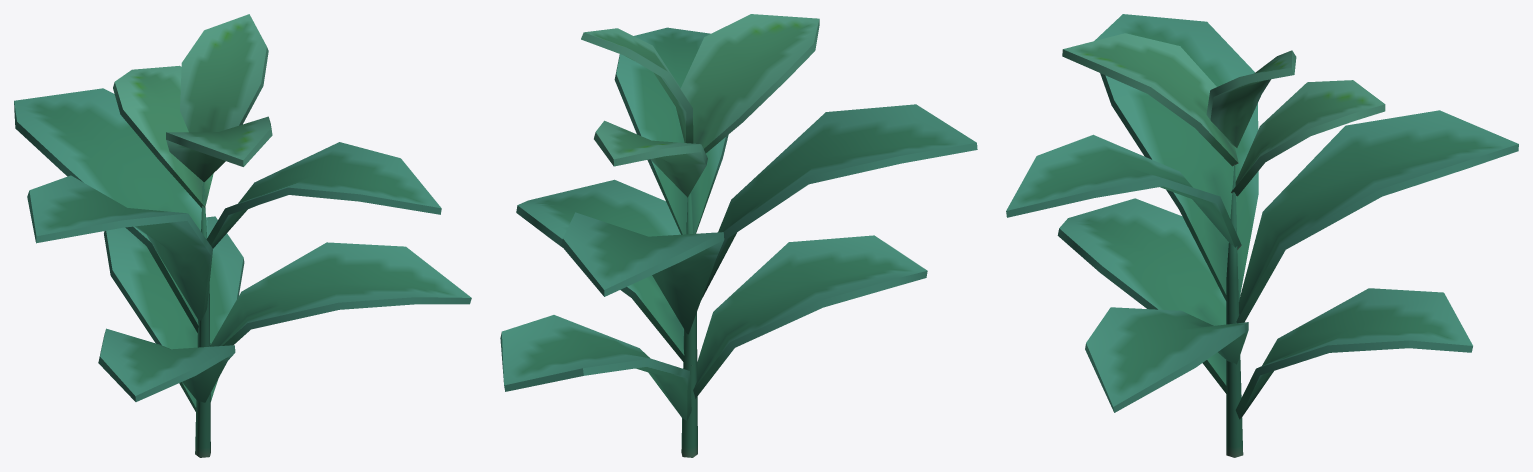
Rendered from Pixel_Misc_0024_2.fbx.
3 renders of one model, left to right at view 1: azimuth 30°, elevation 25°; view 2: azimuth 150°, elevation 25°; view 3: azimuth 270°, elevation 25°, orthographic. The views are drawn at different scales.
Parts seen in each view (by area): view 1: Pixel_Misc_0024_2; view 2: Pixel_Misc_0024_2; view 3: Pixel_Misc_0024_2.
Boxes of the visible parts, x1,y1,x2,y2 form: Pixel_Misc_0024_2: (14,14,471,457); Pixel_Misc_0024_2: (500,14,977,457); Pixel_Misc_0024_2: (1006,14,1518,457).
Bounding box in the file's own units: 73.31 × 65.46 × 71.77.
